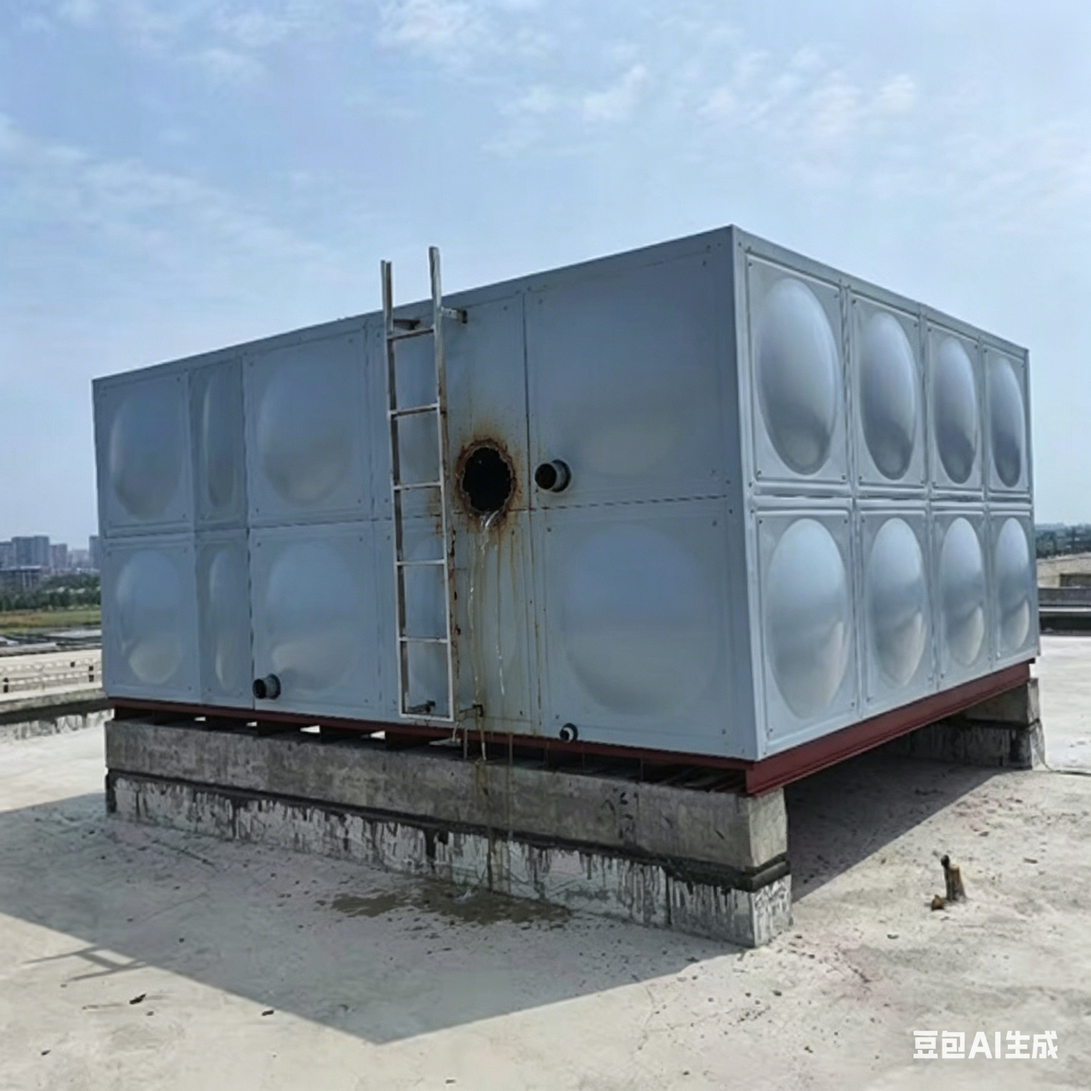Leakage: (457, 507, 550, 921)
